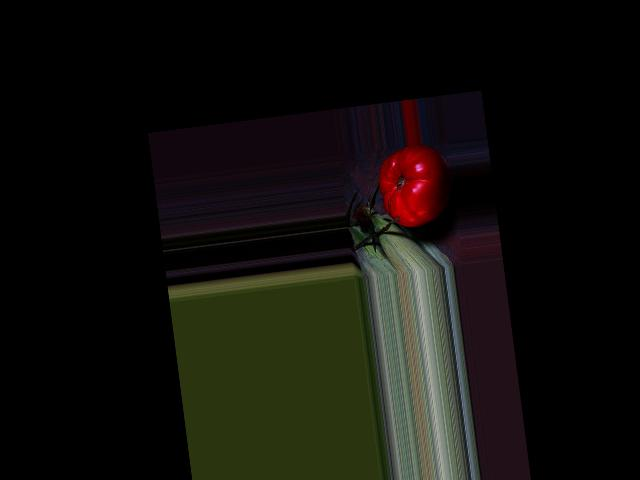tomato: (375, 141, 457, 231)
